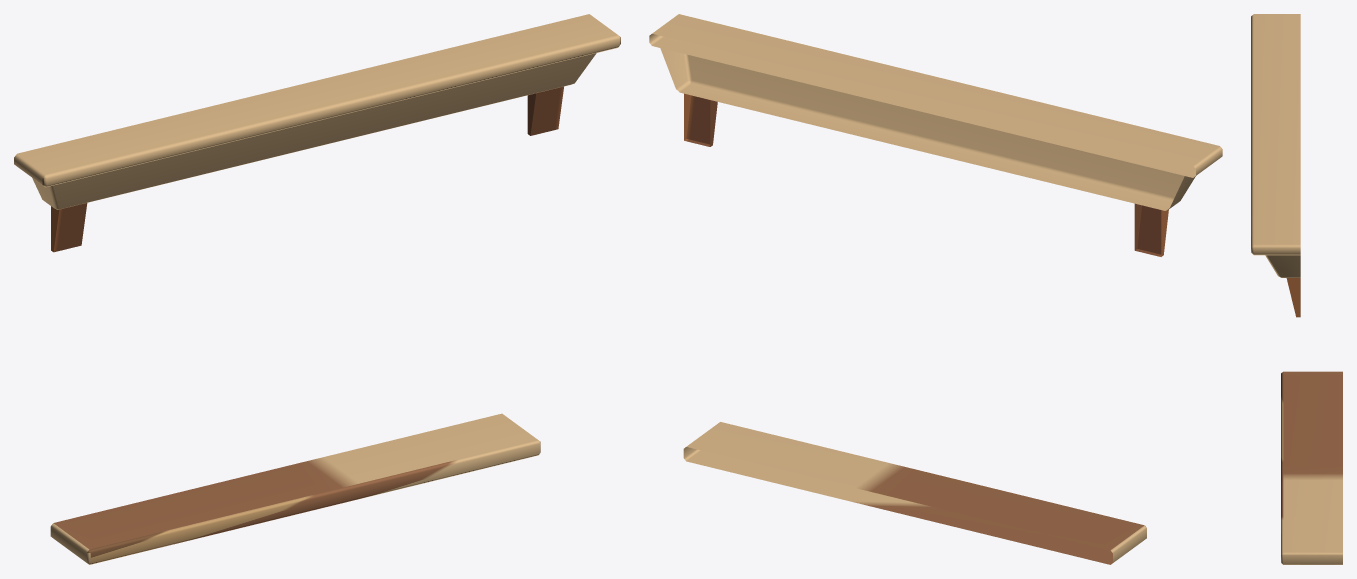
Rendered from DBK_WinDouble_Trim_B_Full.fbx.
3 renders of one model, left to right at view 1: azimuth 30°, elevation 25°; view 2: azimuth 150°, elevation 25°; view 3: azimuth 270°, elevation 25°, orthographic. The views are drawn at different scales.
Parts seen in each view (by area): view 1: DBK_WinDouble_Trim_B_Full; view 2: DBK_WinDouble_Trim_B_Full; view 3: DBK_WinDouble_Trim_B_Full.
Part boxes in pixels (<box>): DBK_WinDouble_Trim_B_Full: <box>14,14,620,564</box>; DBK_WinDouble_Trim_B_Full: <box>649,14,1222,564</box>; DBK_WinDouble_Trim_B_Full: <box>1251,14,1342,564</box>.
Size of the model in its own units: 209 by 144 by 34.82.
